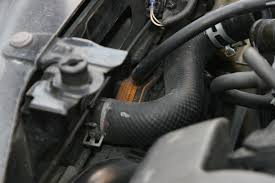radiator_hose: (94, 17, 205, 146)
